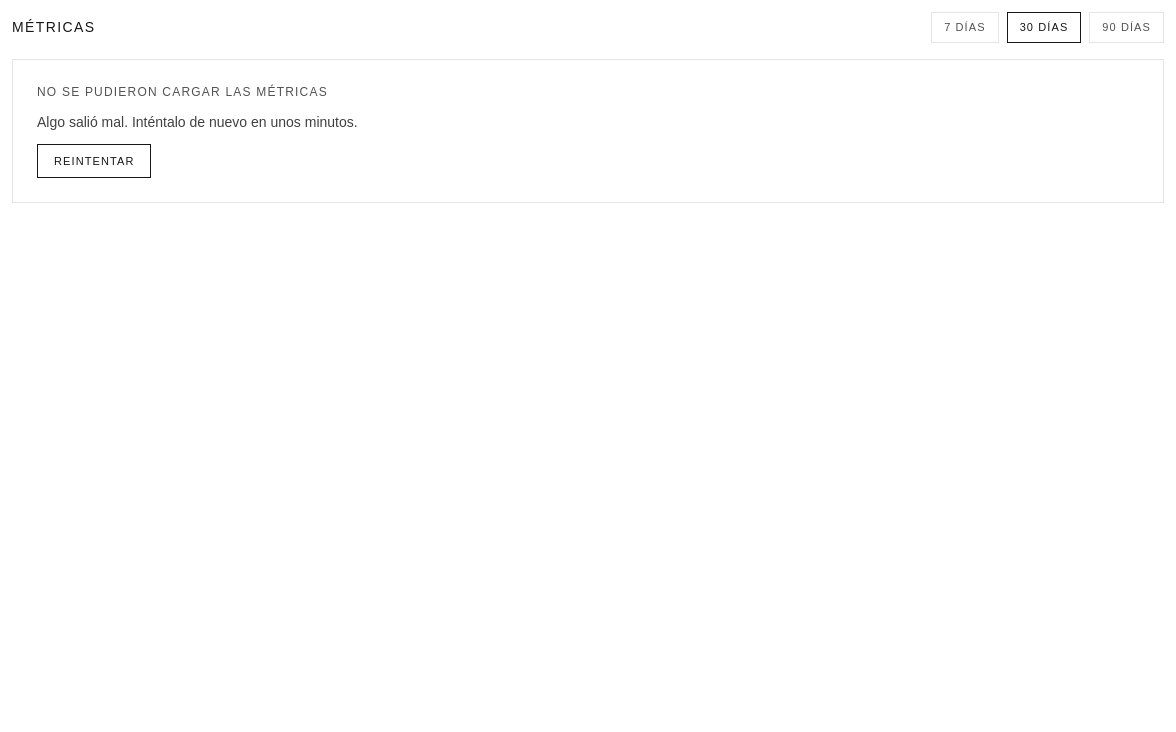
Test: AdminMetrics (Tarea 7.6) › ante un error muestra el aviso con «Reintentar» y recuperación al pulsarlo
This screenshot has width=1176, height=732.
Check: the message shows "No se pudieron cargar las métricas", box [37,84,328,98]
Step 1. Click the button "Reintentar" → point(94, 161), box [37,144,152,178]
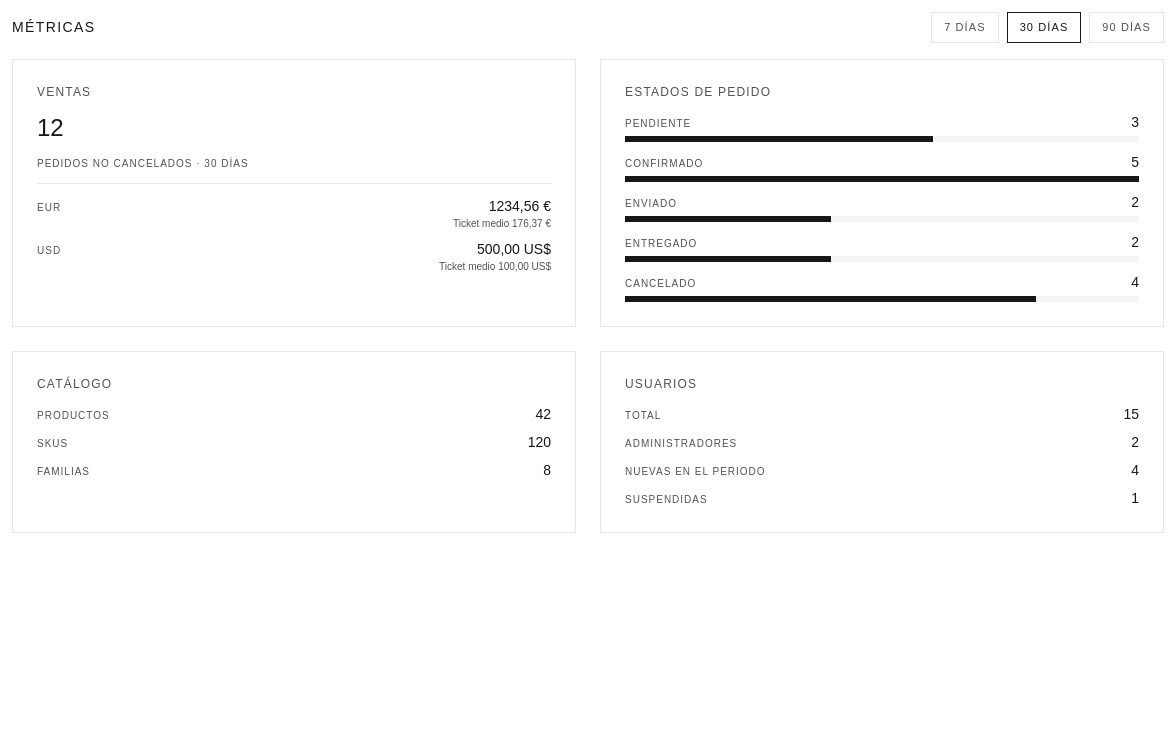
Check: the element "Ventas" is shown, box [12,58,576,326]
